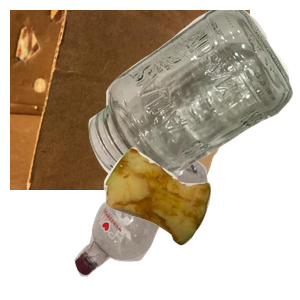cardboard: (10, 10, 250, 190)
glass: (86, 10, 300, 184)
plastic: (72, 142, 273, 300)
trash: (101, 145, 300, 300)
